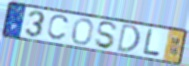3: (24, 10, 47, 38)
C: (46, 14, 71, 42)
D: (115, 22, 142, 54)
L: (142, 28, 161, 59)
O: (70, 17, 94, 46)
S: (93, 20, 119, 50)
